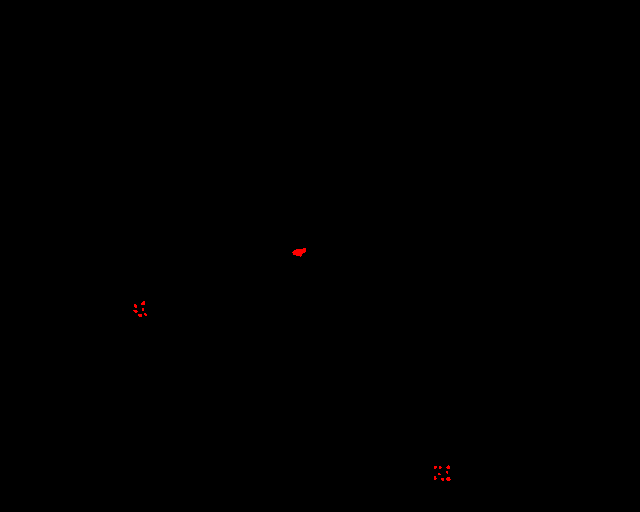Target: (292, 248, 306, 257), (446, 477, 451, 481), (141, 301, 145, 305), (446, 465, 450, 469), (133, 310, 138, 313), (134, 304, 137, 308), (138, 314, 142, 317), (434, 476, 437, 480), (144, 313, 147, 316), (434, 466, 437, 469), (439, 466, 442, 469), (441, 478, 444, 481), (142, 308, 144, 311), (446, 471, 448, 474), (438, 473, 441, 475)
